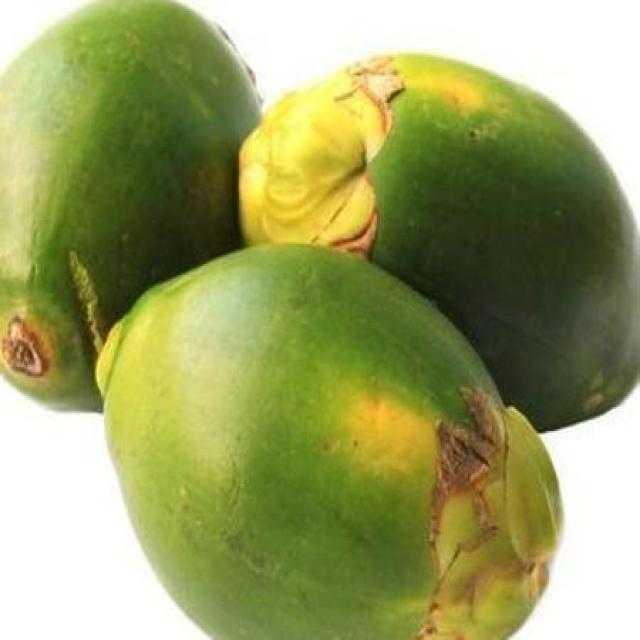good: (97, 244, 560, 638), (259, 53, 639, 435), (0, 0, 262, 416)
